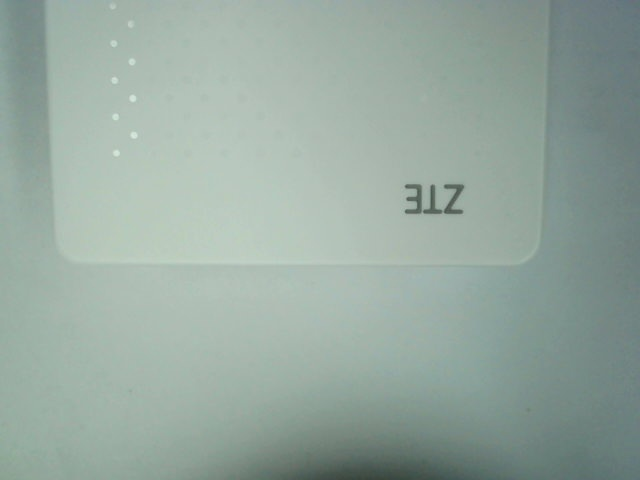AN_ZTE: (399, 176, 474, 224)
